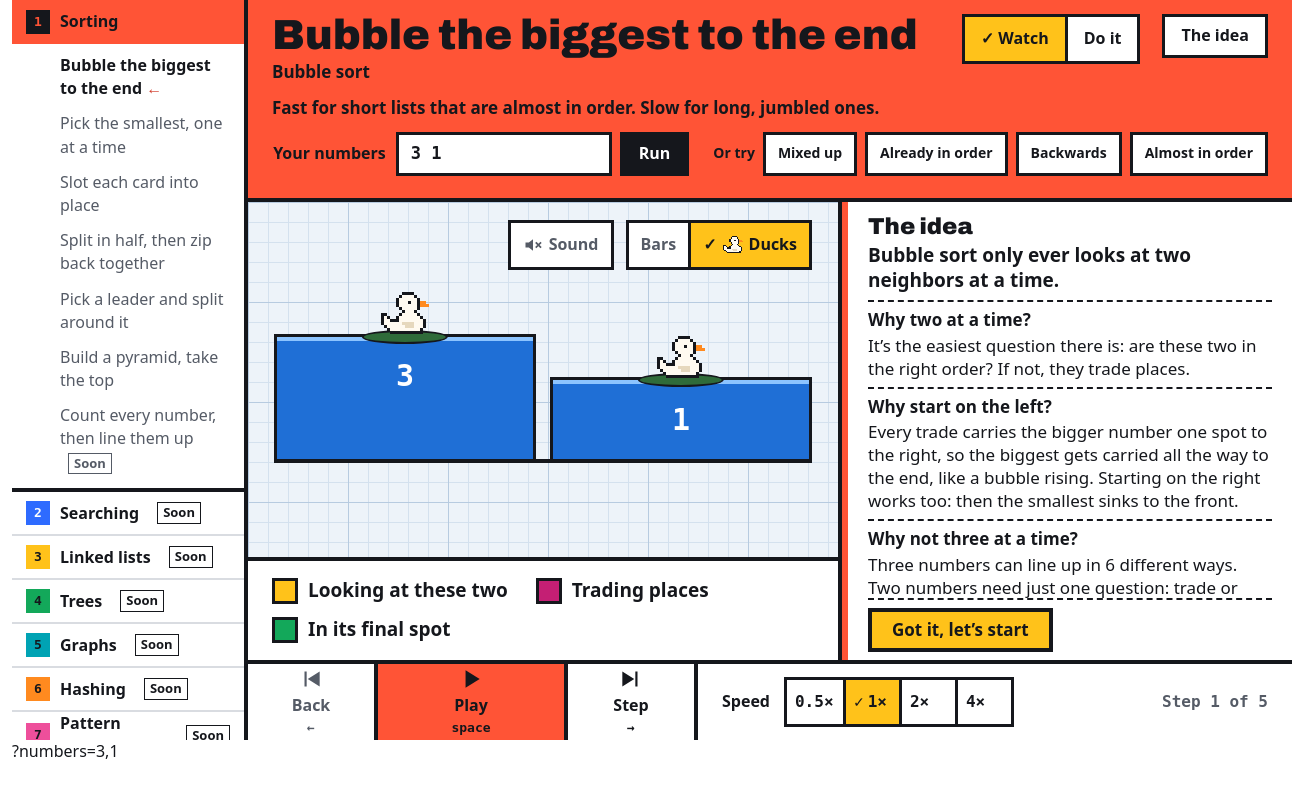
Test: your numbers: mistakes › explains a mistake at the learner’s level and keeps the last good run
The image size is (1292, 800).
Replace the text in the field labelled "Your numbers" with "5 x 100" at [504, 154], box x1=396 y1=132 x2=612 y2=176
Then press Enter
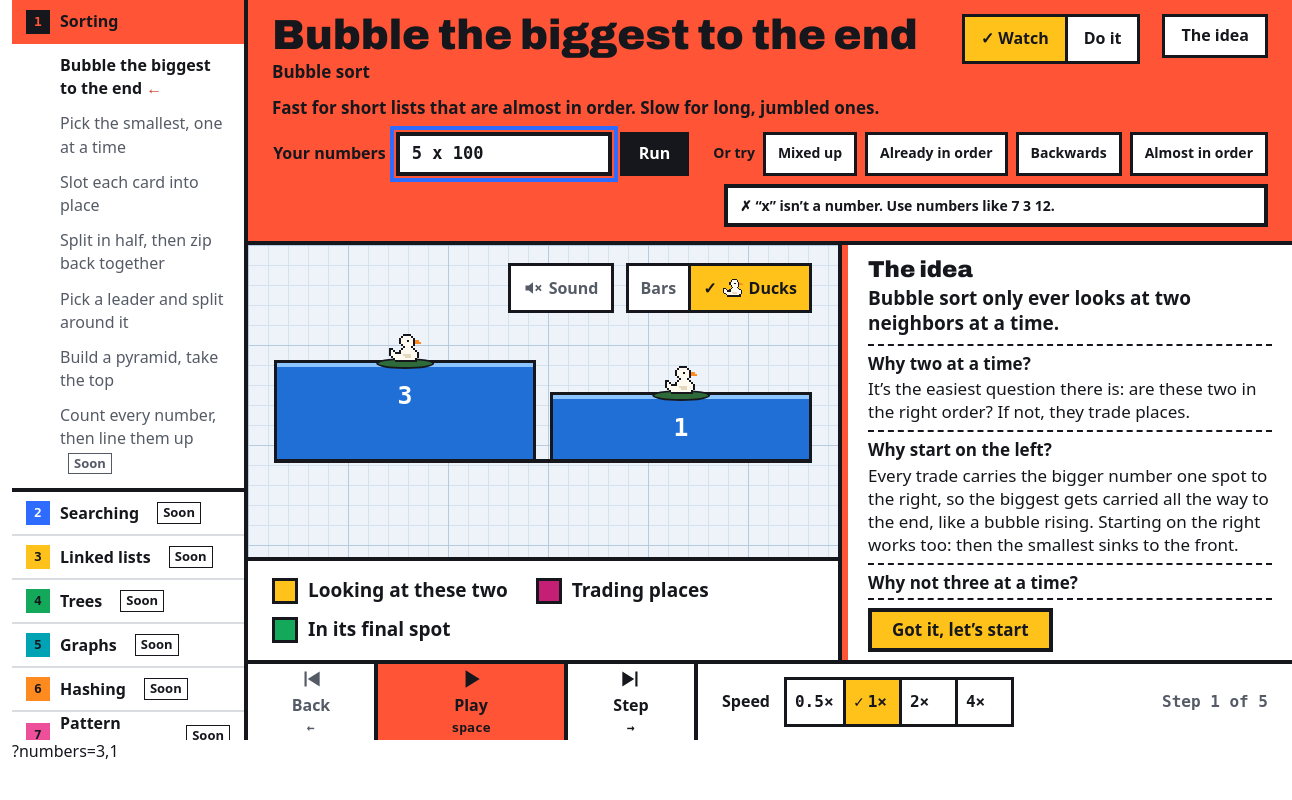
Expected: the text with test id "address" reads "?numbers=3,1", x1=12 y1=740 x2=119 y2=762
Expected: the text with class "numbers-message" reads "“x” isn’t a number. Use numbers like 7 3 12.", x1=755 y1=196 x2=1055 y2=215
